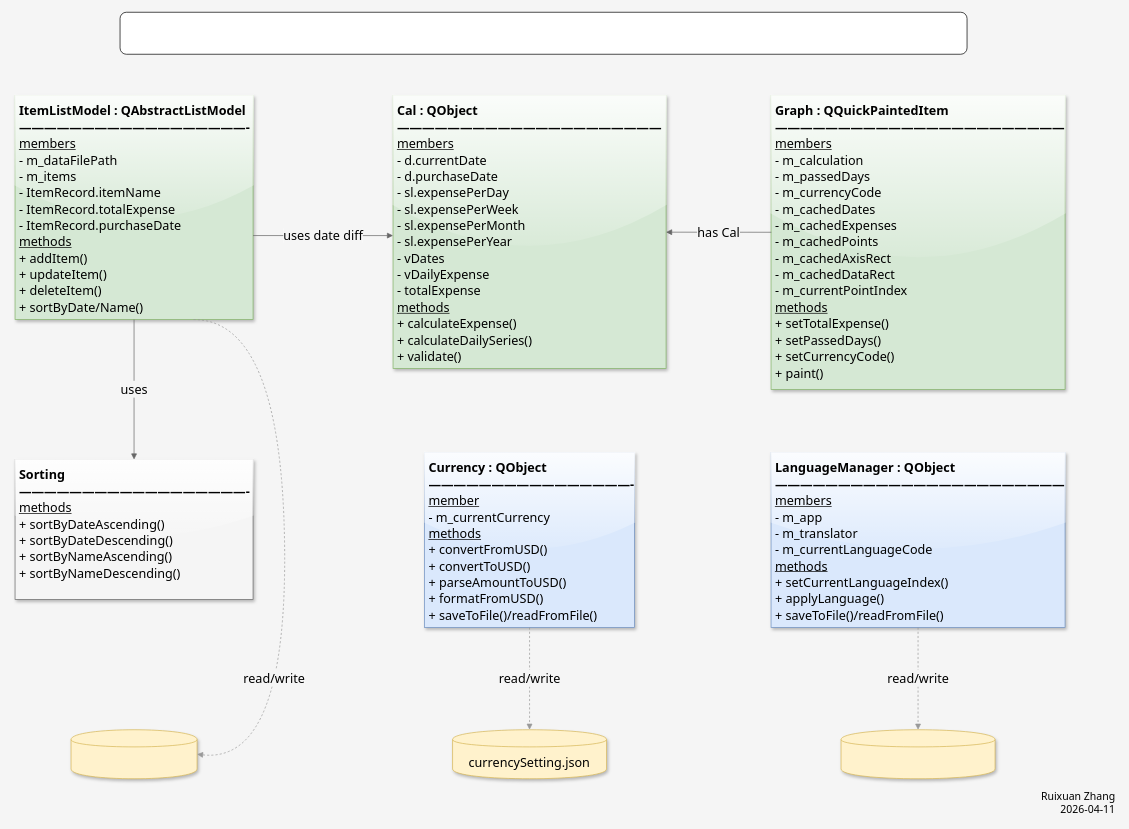
Image size: 1129x829. Some labels were removed from this diagram. The shapes that lost their labels are listed below. From the top down, each one's centre as x and y in pixels, then its label:
At [543,33]: "See your Cost - Class Diagram".
At [134,755]: "itemData.json".
At [918,755]: "languageSetting.json".
